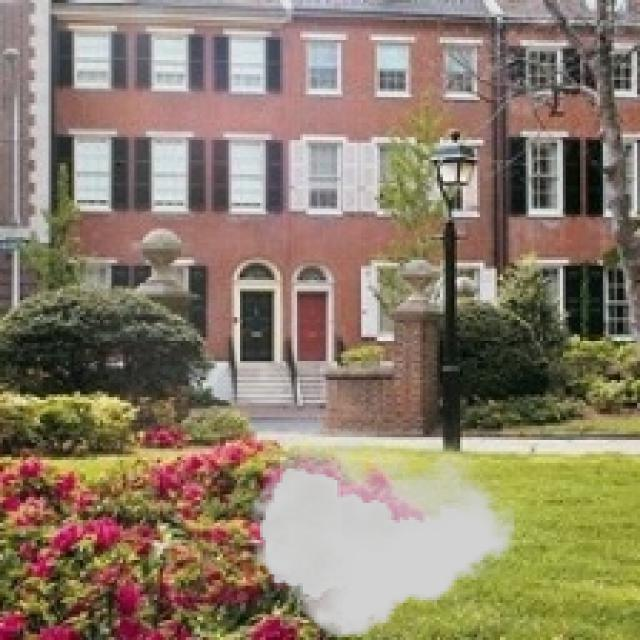smoke: (249, 437, 514, 637)
